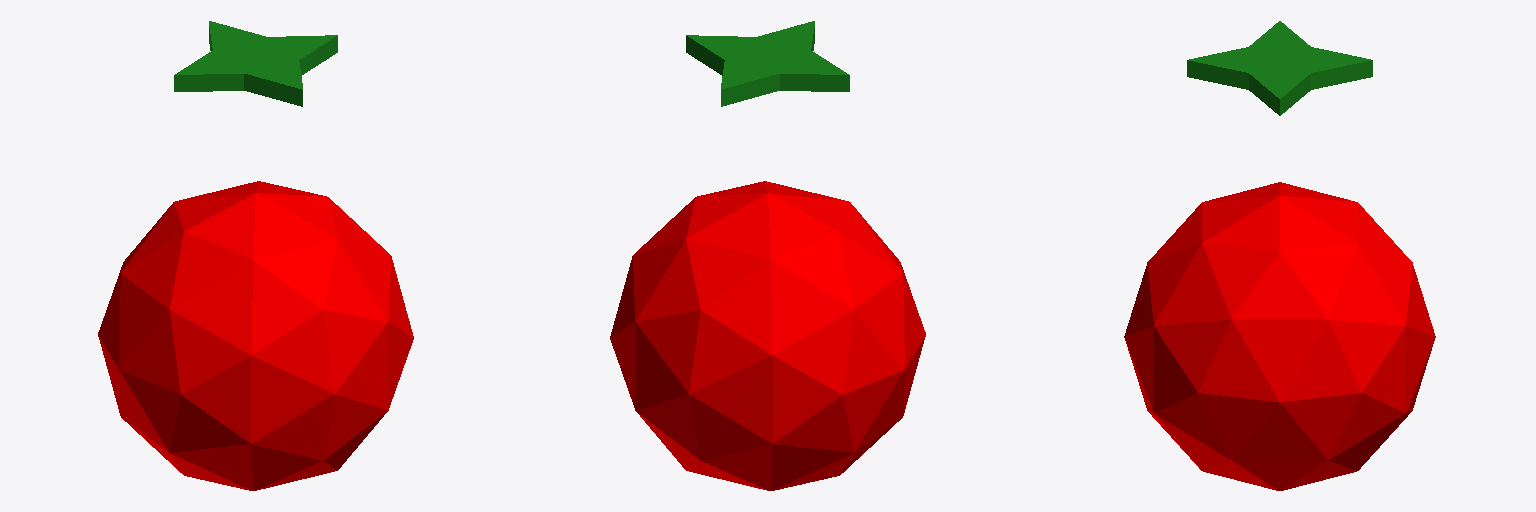
The robot description file, URDF, robot "minitomato":
<?xml version="1.0"?>
<robot name="minitomato"
       xmlns:xi="http://www.w3.org/2001/XInclude">
  <gazebo>
    <static>false</static>
  </gazebo>
  <link name="nil_link">
    <visual>
      <origin xyz="0 0 0" rpy="0 -0 0"/>
      <geometry>
        <mesh filename="model://minitomato/meshes/nil_link_mesh.dae" scale="1 1 1" />
      </geometry>
    </visual>
    <collision>
      <origin xyz="0 0 0" rpy="0 -0 0"/>
      <geometry>
        <mesh filename="model://minitomato/meshes/nil_link_mesh.dae" scale="1 1 1" />
      </geometry>
    </collision>
    <inertial>
      <mass value="0.001" />
      <origin xyz="0 0 0" rpy="0 -0 0"/>
      <inertia ixx="1e-03" ixy="0" ixz="0" iyy="1e-03" iyz="0" izz="1e-03"/>
    </inertial>
  </link>
  <gazebo reference="nil_link">
    <mu1>0.9</mu1>
    <mu2>0.9</mu2>
  </gazebo>
</robot>

--- Facts derived from the render (not from the file) ---
Views: 3 orthographic renders of the robot side by side, from view 1: azimuth 30°, elevation 25°; view 2: azimuth 150°, elevation 25°; view 3: azimuth 270°, elevation 25°.
Model minitomato with 1 links and 0 joints (none), rooted at nil_link, posed all joints at 0.
Visible links, largest first — view 1: nil_link; view 2: nil_link; view 3: nil_link.
Boxes of the visible links, x1,y1,x2,y2 form: nil_link: (98,21,413,490); nil_link: (610,21,925,490); nil_link: (1124,21,1435,490).
Size in the robot's own frame: 0.05 by 0.05 by 0.074 metres.
1 mesh visuals loaded from 1 distinct referenced files (1 Collada DAE).